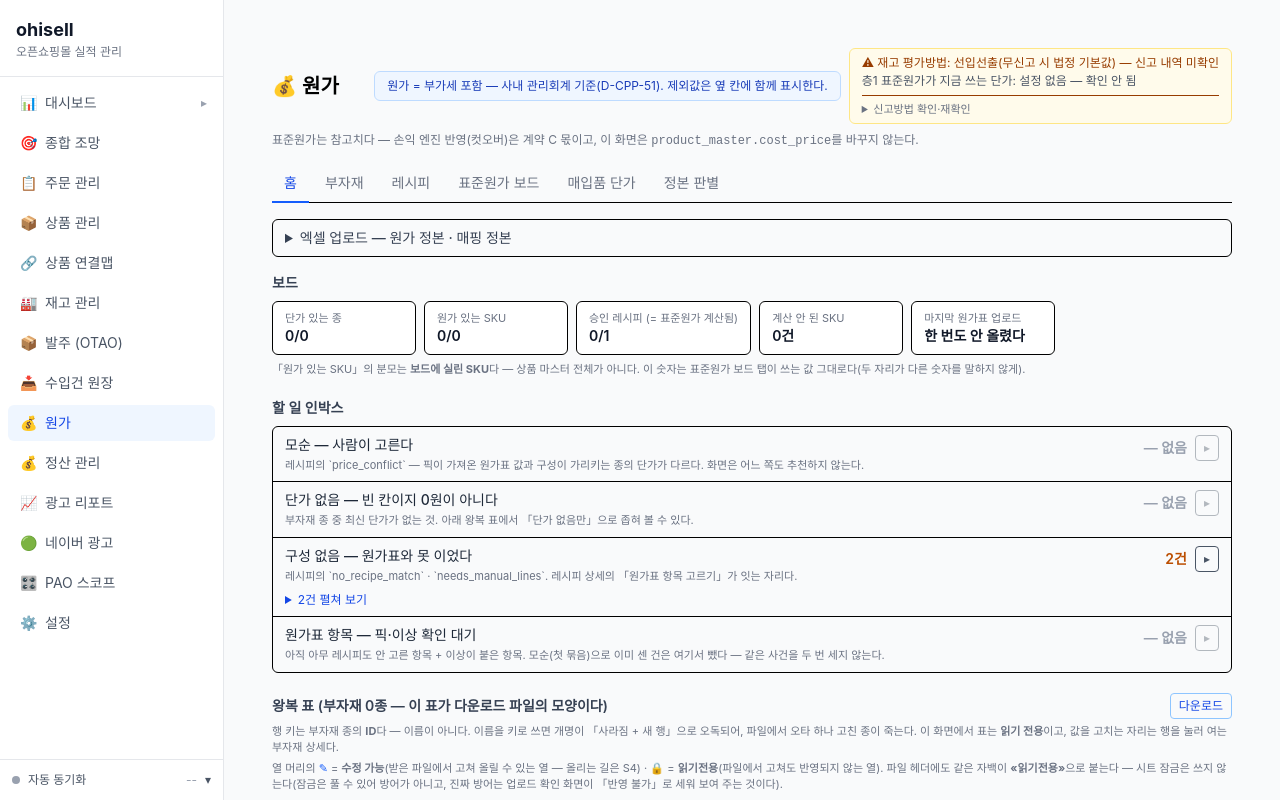
Test: ★원가표 픽이 사람에게 닿는 경로 — 라우트·페이지·호출부가 한 줄로 이어진다 › ★P1-2: 「없음 확인」과 「아직 안 봄」이 **목록에서** 갈린다 (합격 19)
Expected: the heading "💰 원가" is shown, [272, 72, 339, 100]
Click the button "레시피".
click(411, 184)  # box [380, 165, 442, 203]
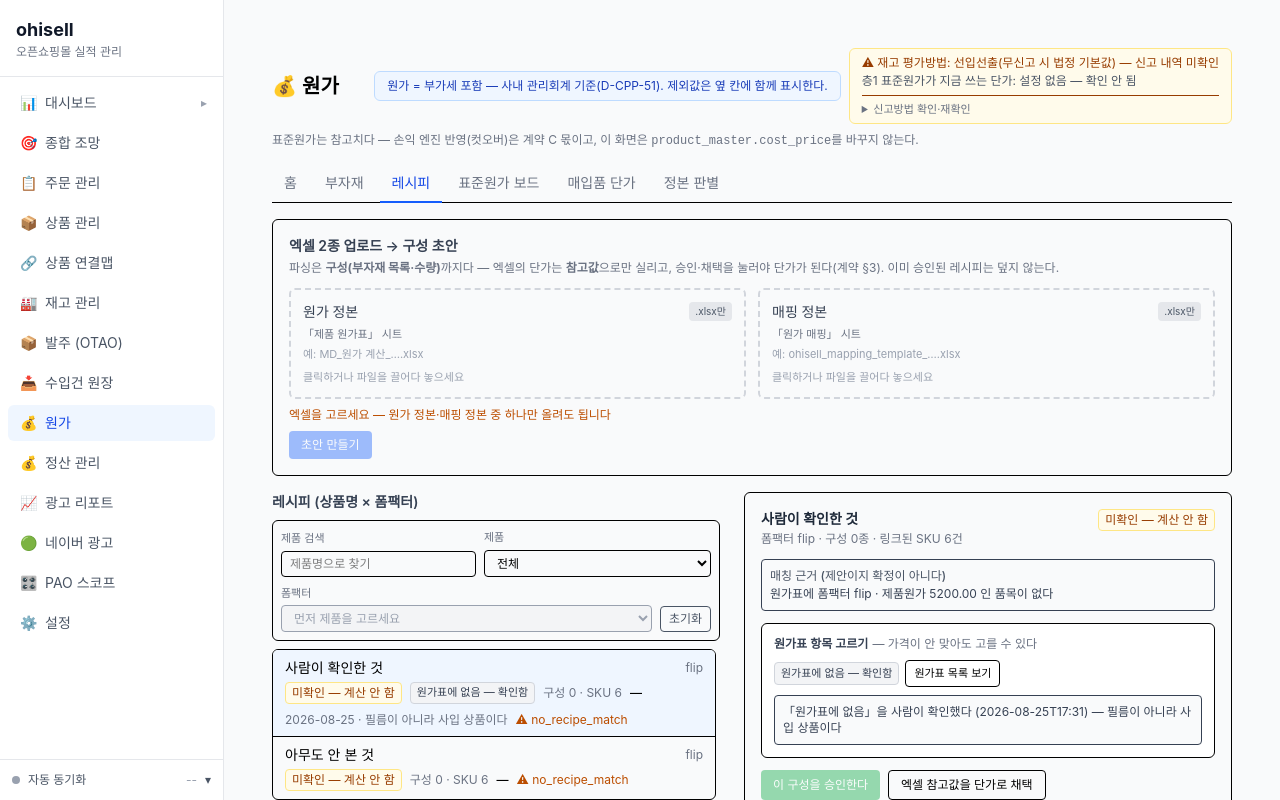
Expected: the element with test id "recipe-row-44" does not show "원가표에 없음"
Result: the button with test id "recipe-row-34" shows "원가표에 없음 — 확인함" at [273, 650, 715, 736]
Result: the text with test id "recipe-row-absent-34" shows "필름이 아니라 사입 상품이다" at [355, 712, 508, 727]
